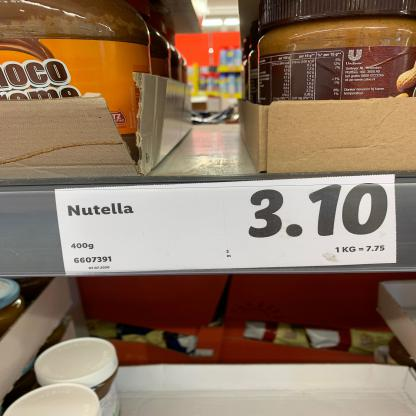prtg: (55, 175, 398, 276)
